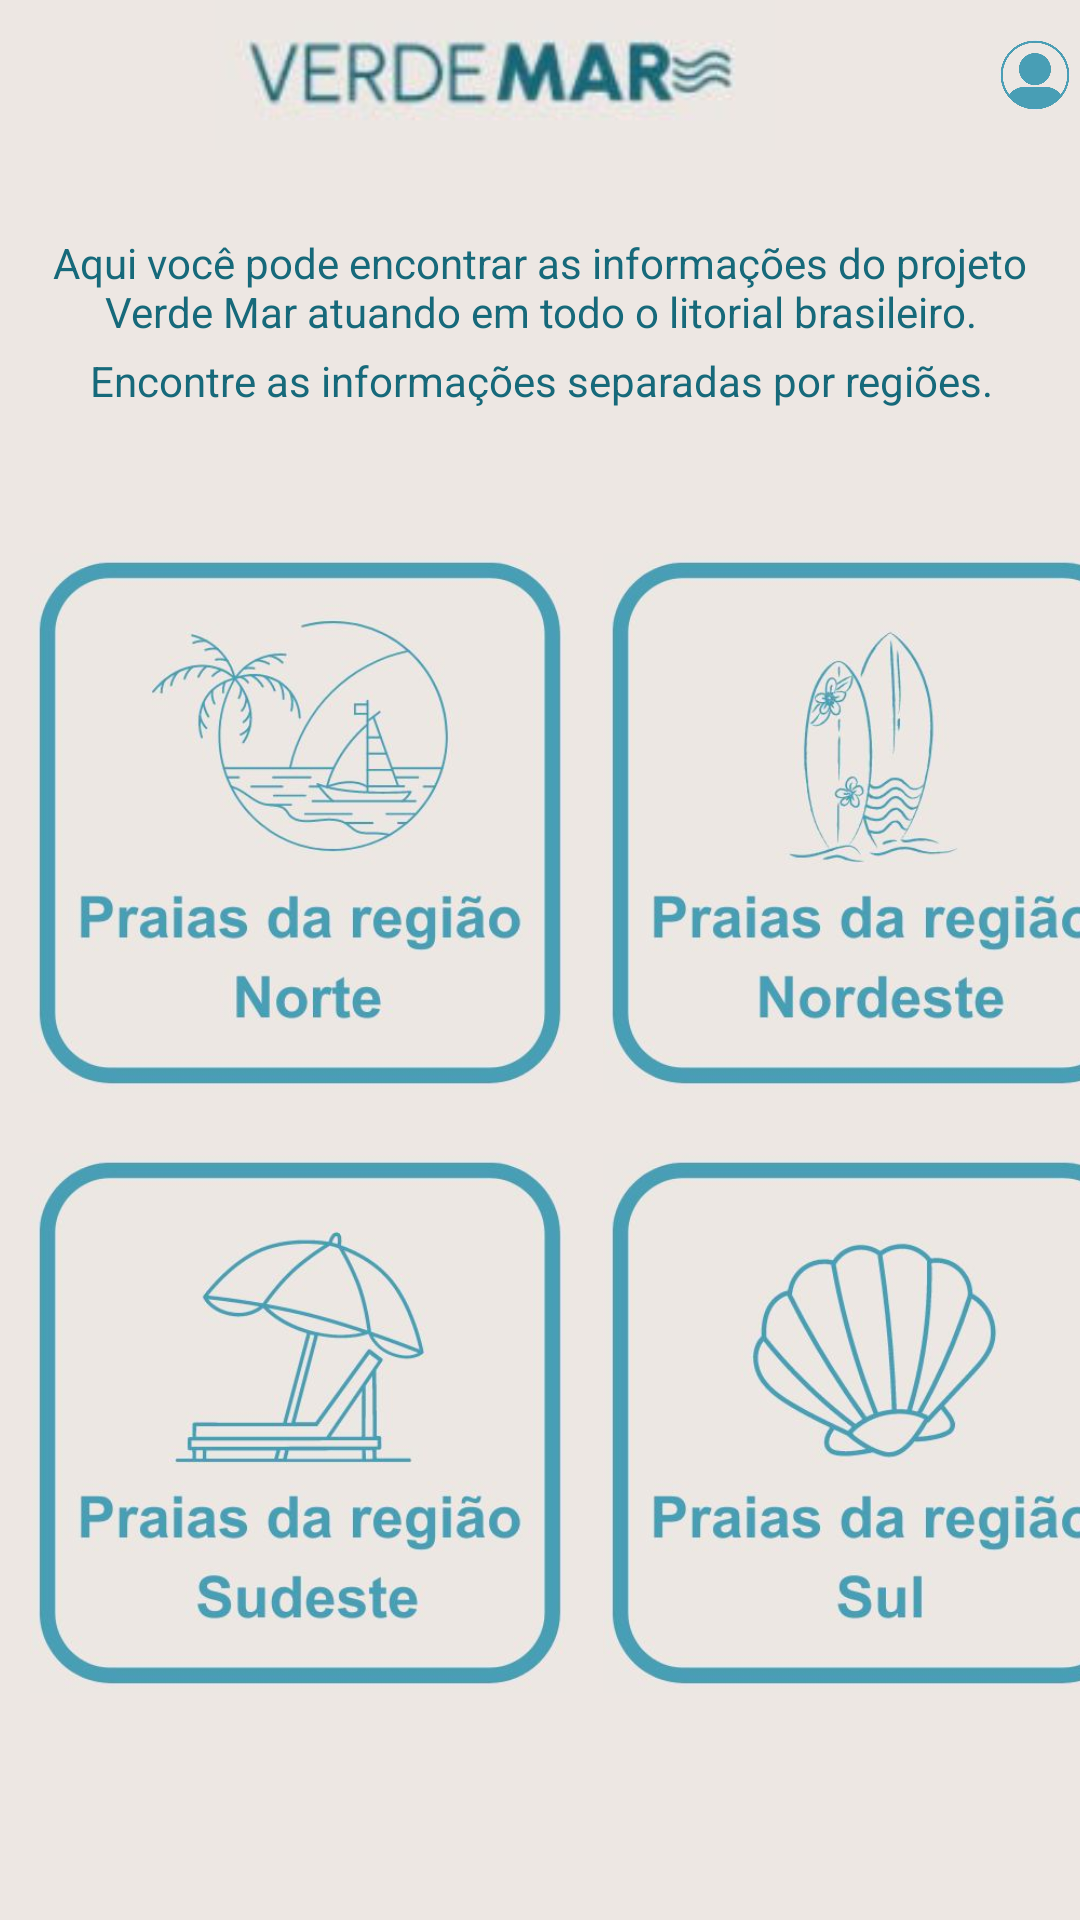

Screen size 1080 × 1920. Icon name, then its box in pixels as (x1, y1, x2, y2):
usuario: (1001, 40, 1069, 109)
